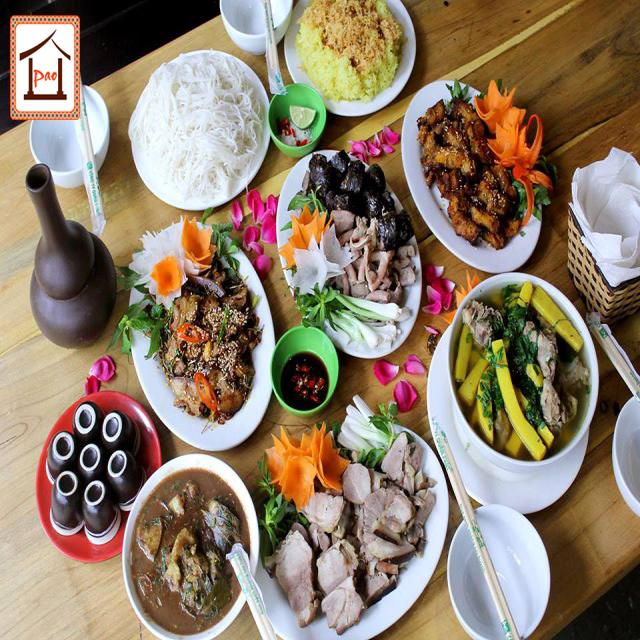bun: (129, 49, 273, 204)
doi nuong: (279, 152, 435, 357)
heo luoc: (244, 432, 444, 634)
heo nuong: (410, 80, 550, 263)
mam ca: (123, 436, 250, 640)
ruou: (5, 148, 129, 346)
thit nau mang: (449, 275, 609, 475)
xoi: (290, 2, 419, 105)
